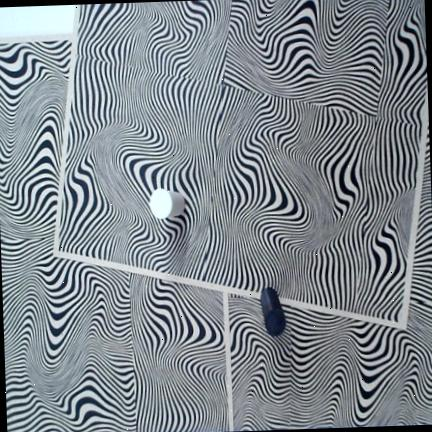Cilindro: (261, 287, 285, 337), (150, 188, 185, 219)
